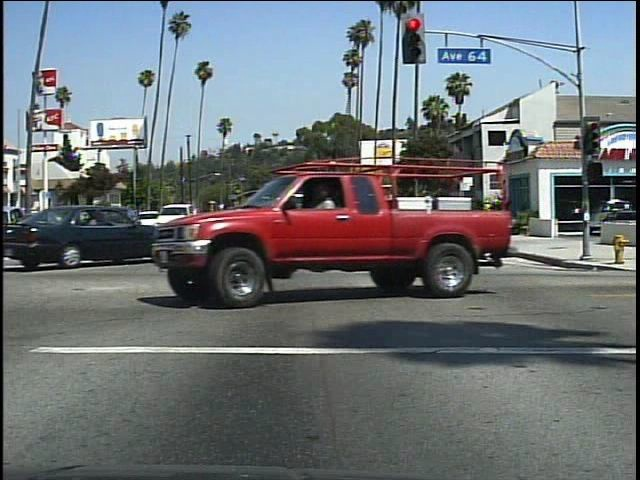person: (312, 176, 353, 294), (476, 200, 499, 236)
